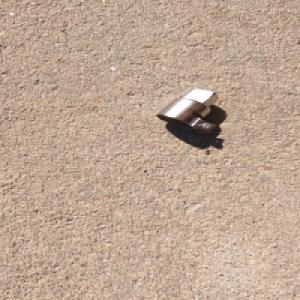MetalPart: (154, 87, 220, 136)
